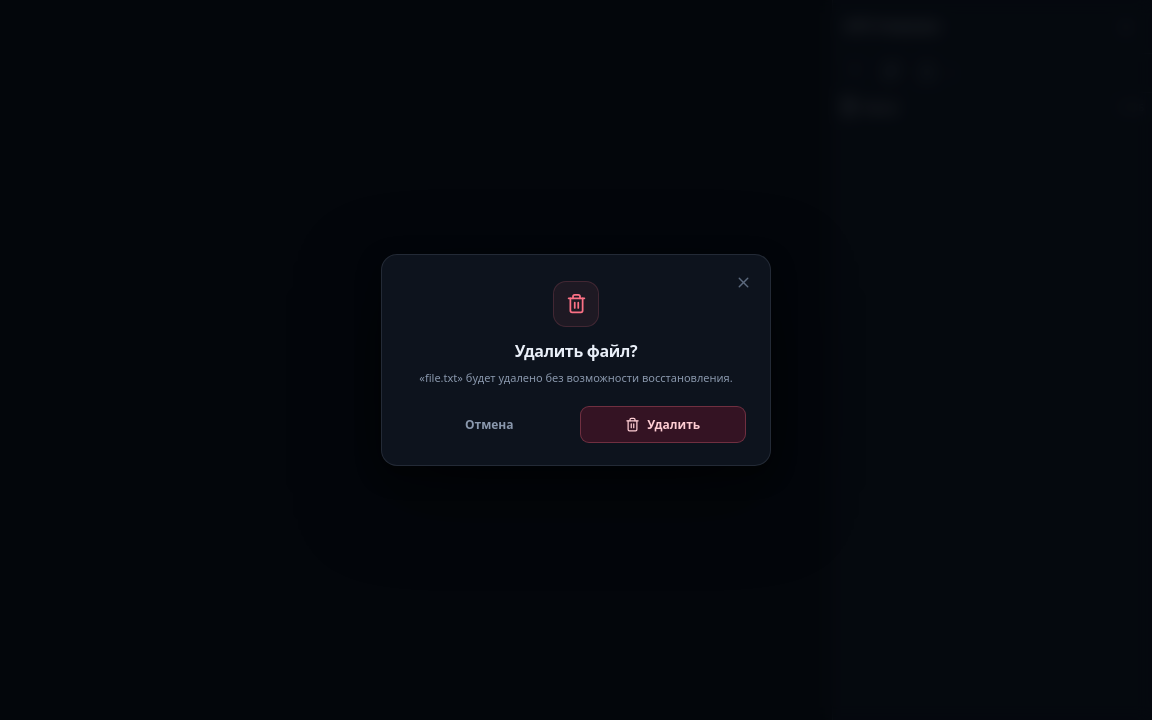
Test: SFTPPanel › удаляет файл после подтверждения
The image size is (1152, 720).
Earlier steps of the test are not shown.
Expected: the heading "Удалить файл?" is shown, [515,340,637,362]
What coordinates should you click on to do the following:
click the button "Удалить"
I would click on:
 (663, 425)
Its box is [580,406,746,443].
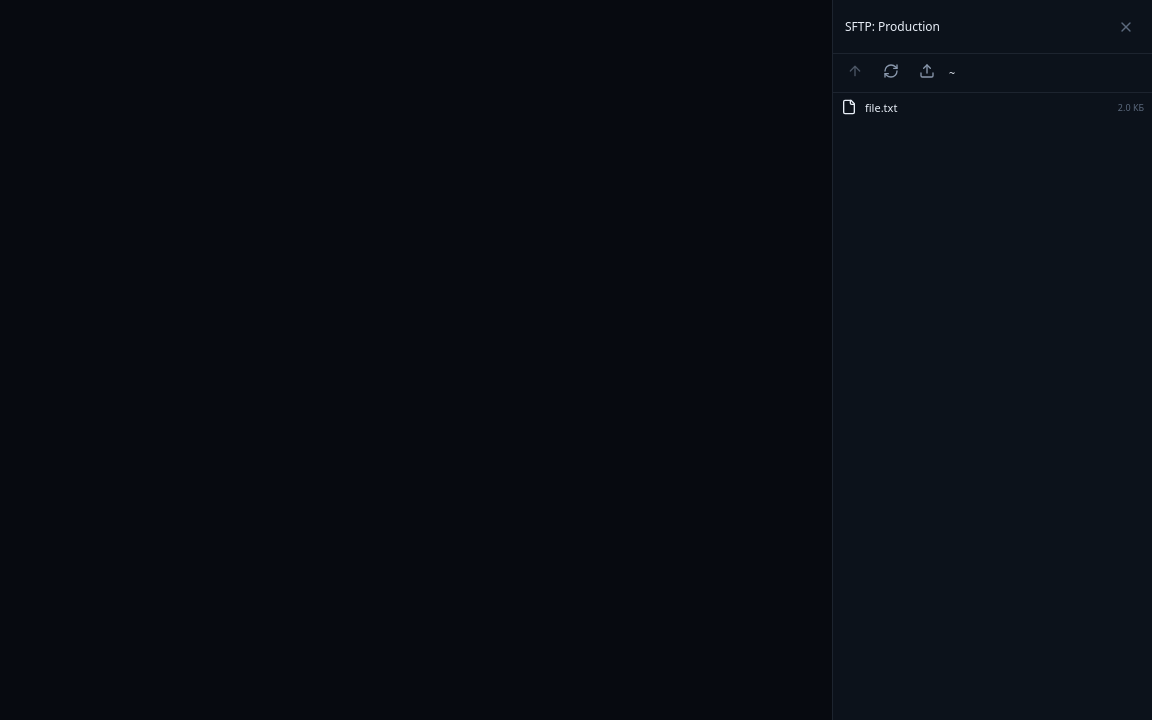
Result: the heading "Удалить файл?" is gone
